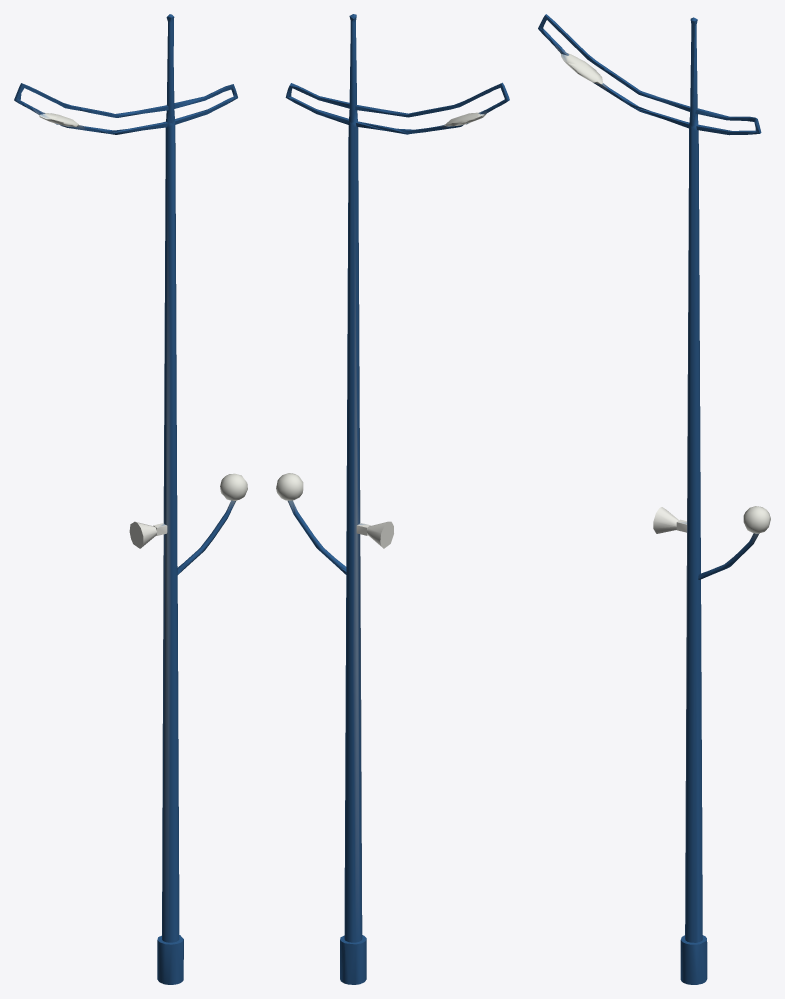
File: den_cot_xanh_hai_tay.mid.glb
3 renders of one model, left to right at view 1: azimuth 30°, elevation 25°; view 2: azimuth 150°, elevation 25°; view 3: azimuth 330°, elevation 25°, orthographic.
Visible parts, largest first — view 1: den_cong_vien; view 2: den_cong_vien; view 3: den_cong_vien.
Boxes of the visible parts, x1,y1,x2,y2 form: den_cong_vien: (14, 14, 247, 984); den_cong_vien: (276, 14, 509, 984); den_cong_vien: (538, 14, 770, 984).
Bounding box in the file's own units: 3 × 11.95 × 0.3163.
